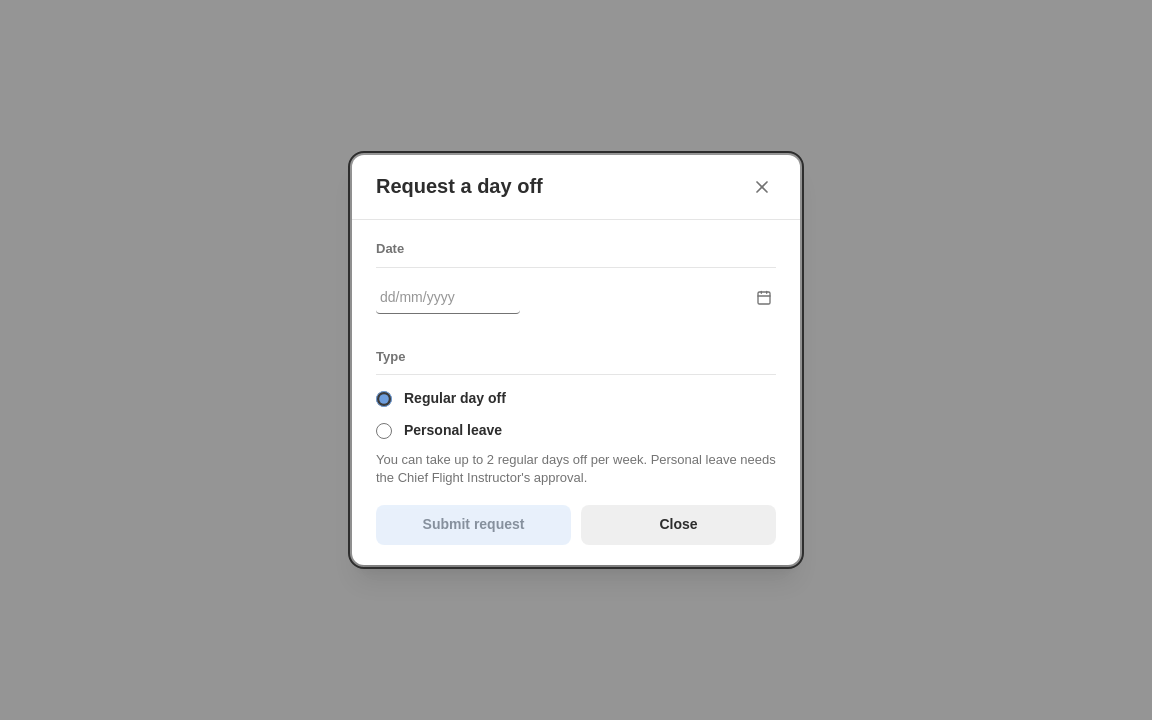
Test: InstructorTimeOffFormModal › keeps the submit button disabled until a valid date is entered
The width and height of the screenshot is (1152, 720).
expect the button "Submit request" is disabled: met, box [376,505,571,545]
In the field named "Date": (448, 298) [376,282,520,314], type "27/08/2026"
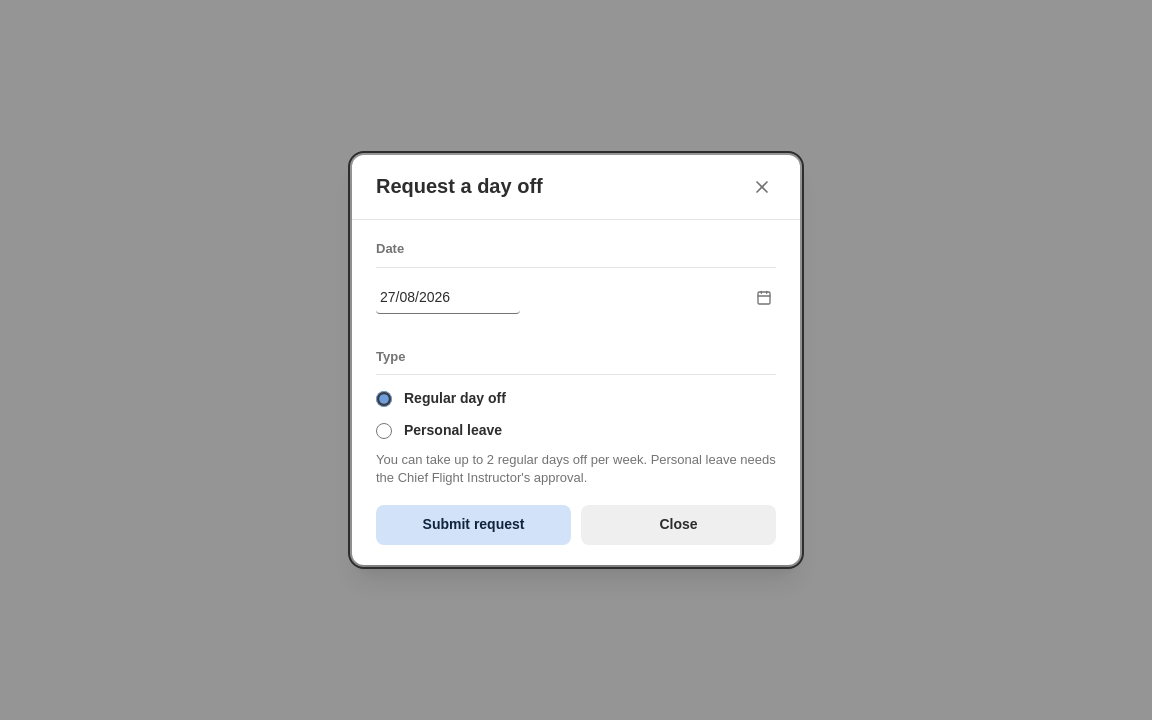
expect the button "Submit request" is enabled: met, box [376,505,571,545]
